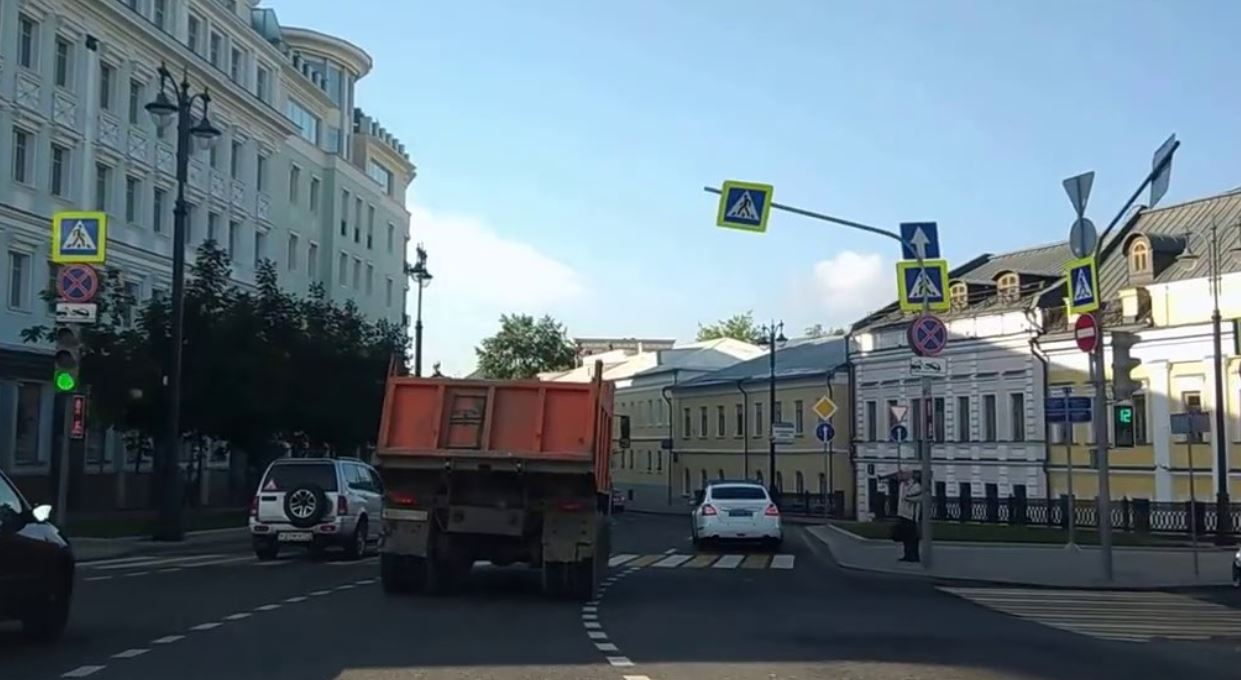Yaya Gecidi: (903, 262, 944, 304), (726, 189, 767, 225), (59, 220, 98, 257), (1068, 269, 1098, 304)
